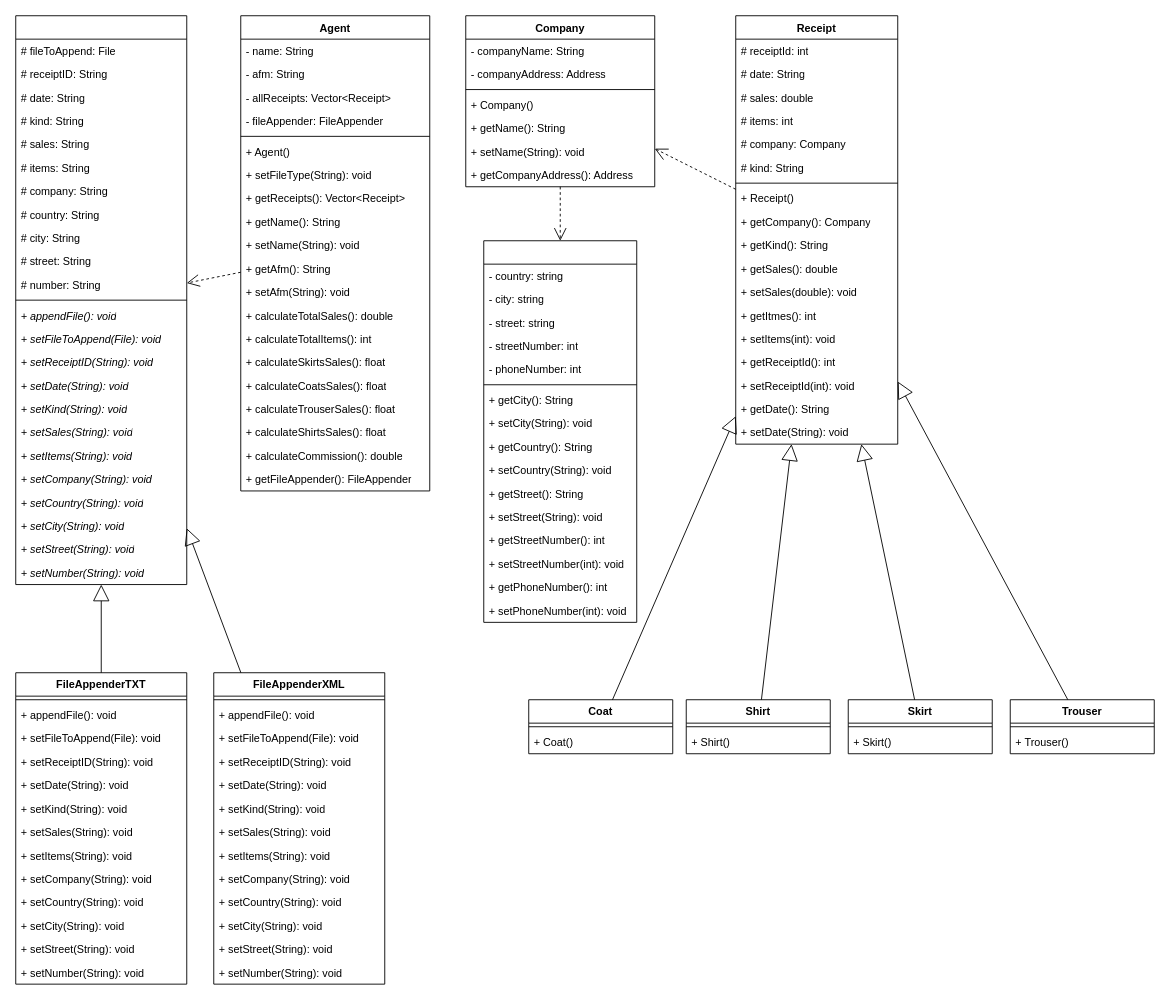
This 1170x1003 diagram has some shape labels left out. The box of each missing label's shape, as (x1, y1, x2, y2) in pixels:
Address: (483, 240, 637, 622)
FileAppender: (15, 15, 187, 585)
